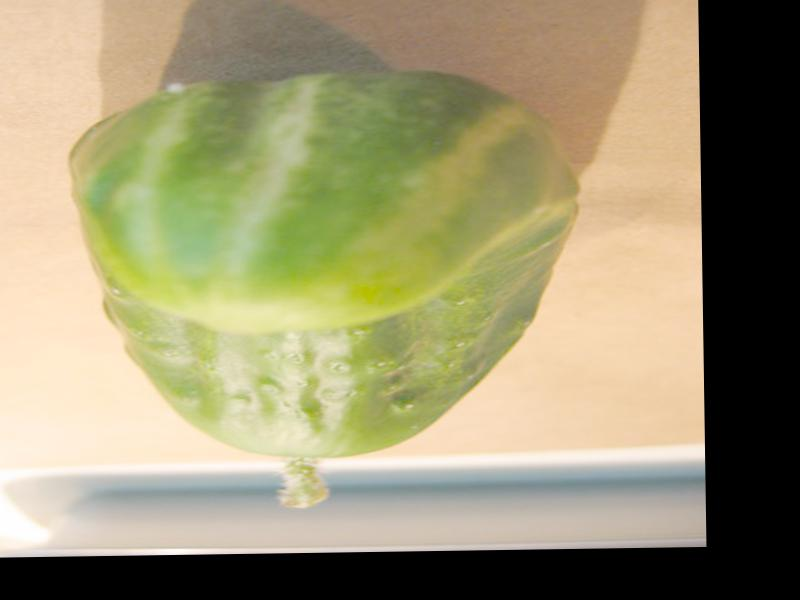Cucumber: (63, 65, 579, 512)
